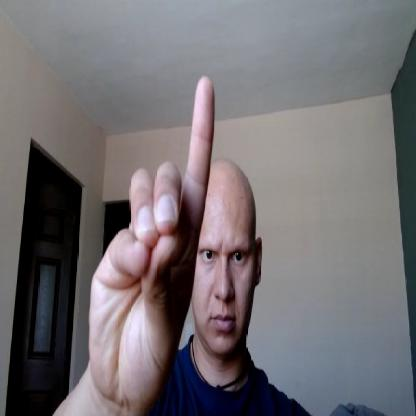D: (89, 76, 216, 398)
